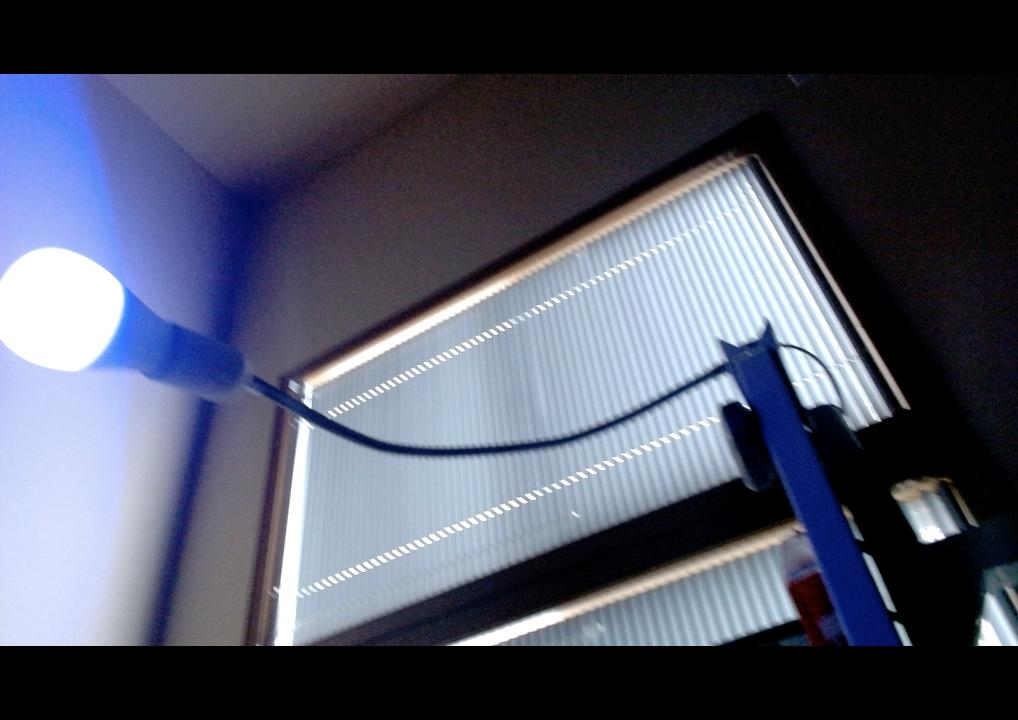TubeLight: (0, 246, 165, 372)
